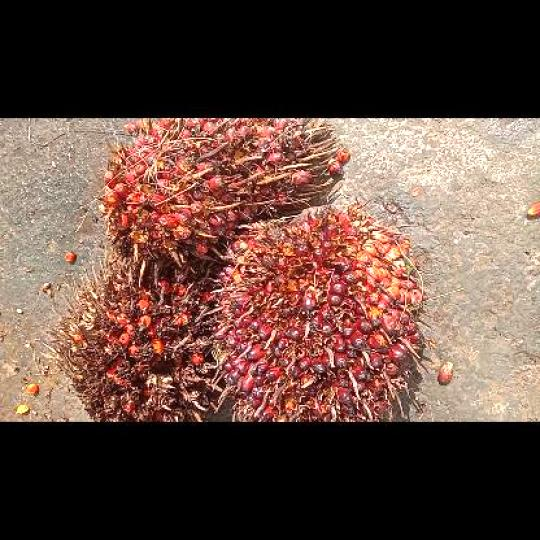masak: (203, 202, 430, 420), (101, 118, 338, 284)
terlalu masak: (43, 249, 222, 421)
